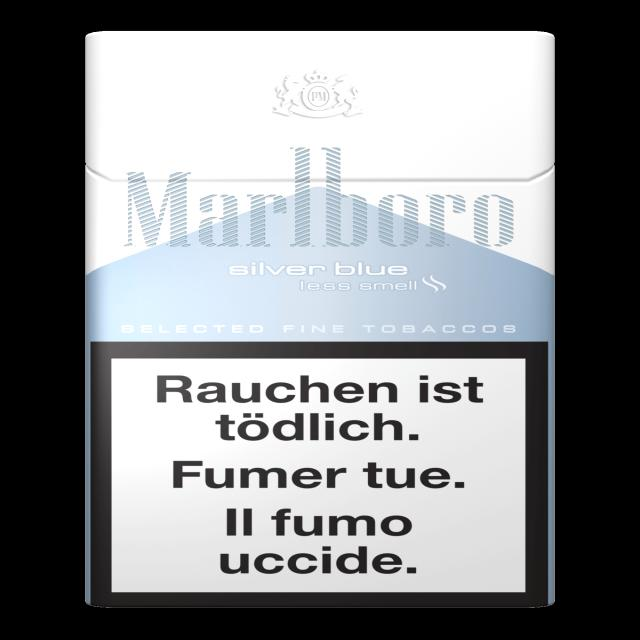marlboro: (14, 0, 596, 640)
